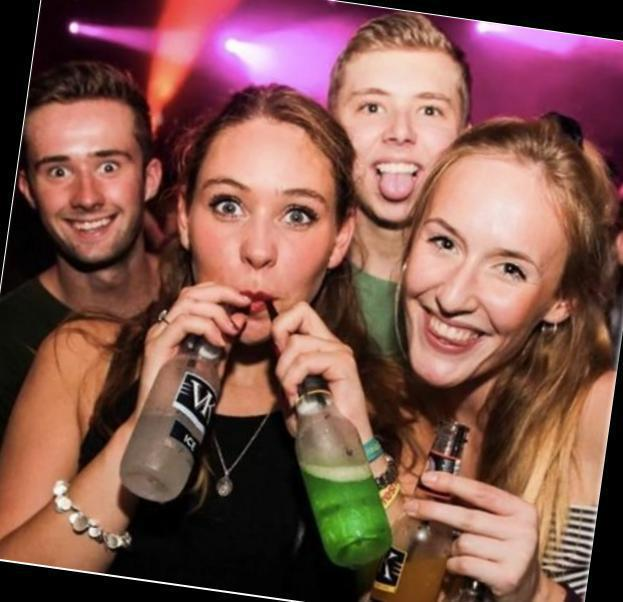Drunk: (410, 168, 554, 383), (190, 130, 331, 335), (344, 50, 455, 216), (29, 108, 139, 264)
